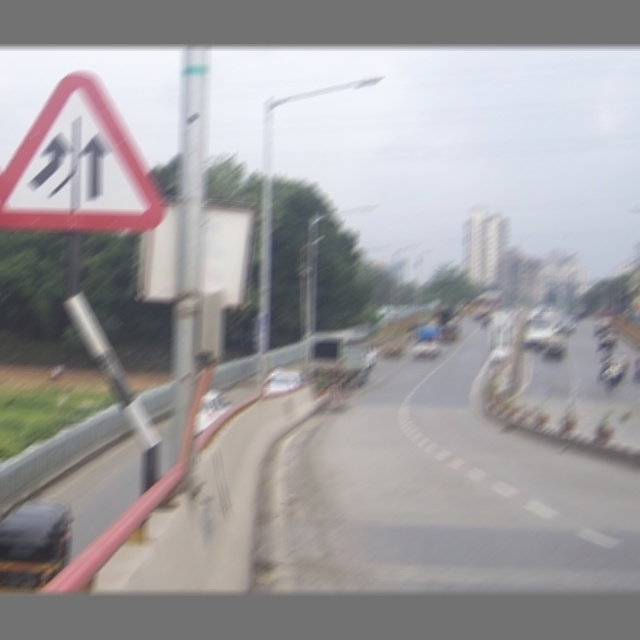Merge_Traffic_Ahead: (13, 80, 163, 232)
